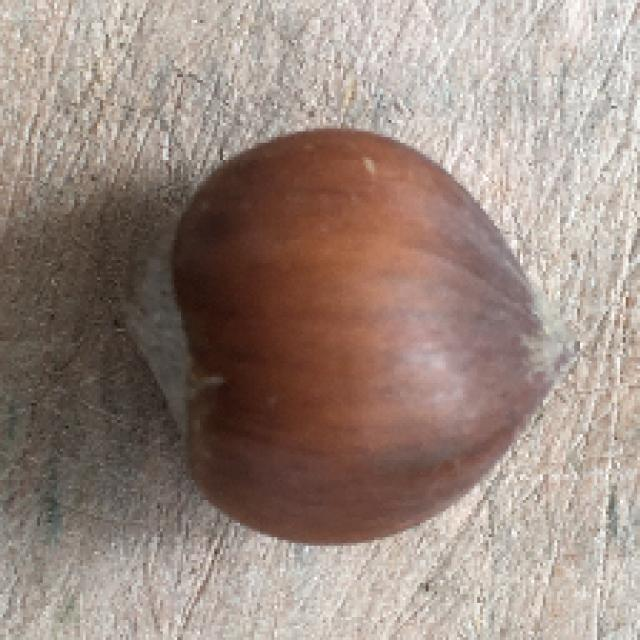damagedHazelnut: (110, 96, 588, 561)
